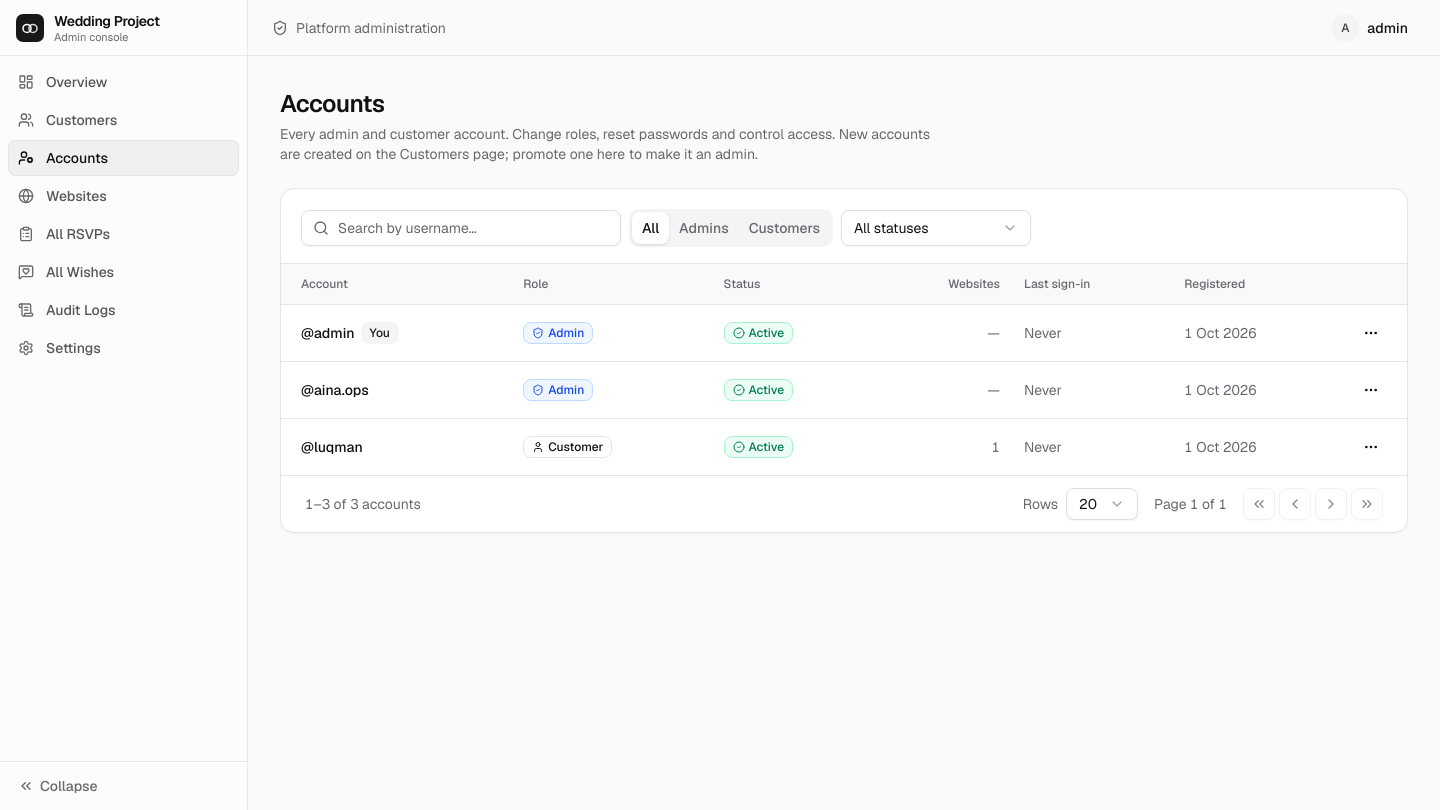
Test: Admin accounts page › filters by role
The width and height of the screenshot is (1440, 810).
Click the radio button labelled "Admins".
click(704, 228)  # box top-left (669, 212), bottom-right (739, 244)
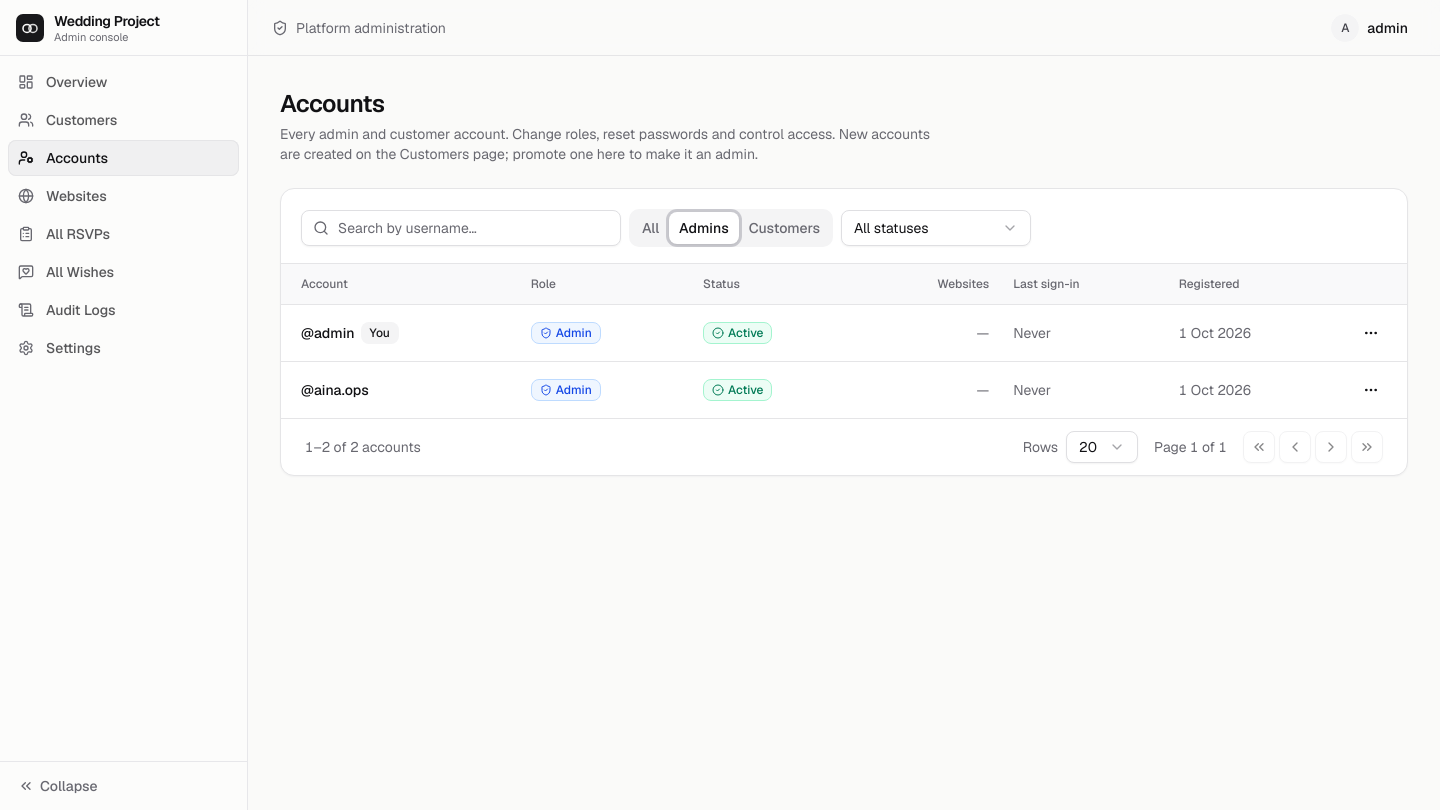
Now no links "@luqman" are shown
